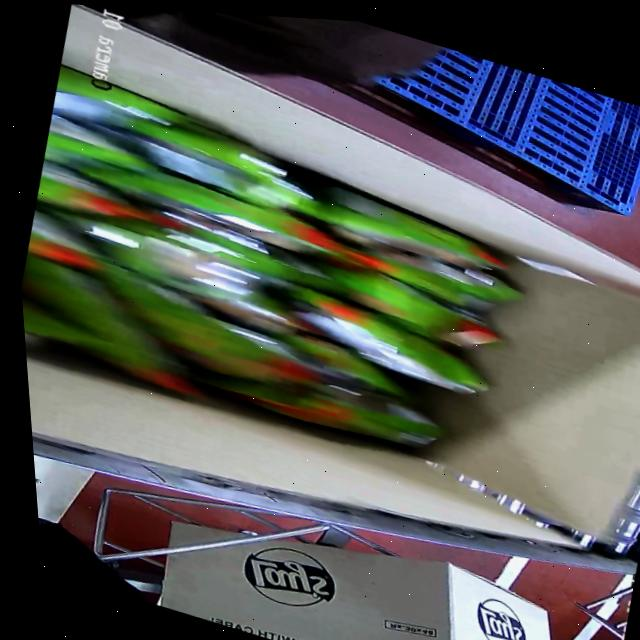YOGURT_HERB: (4, 53, 566, 491)
